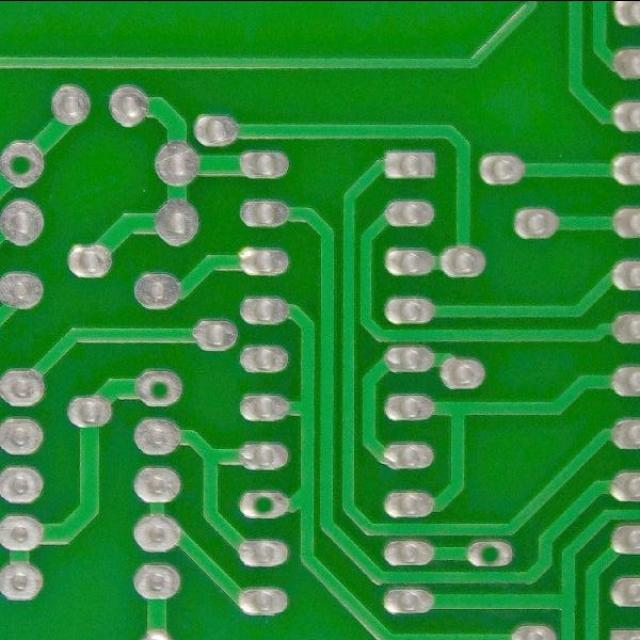missing_hole: (1, 142, 43, 187), (142, 366, 180, 408), (471, 538, 511, 568), (248, 493, 282, 520)
